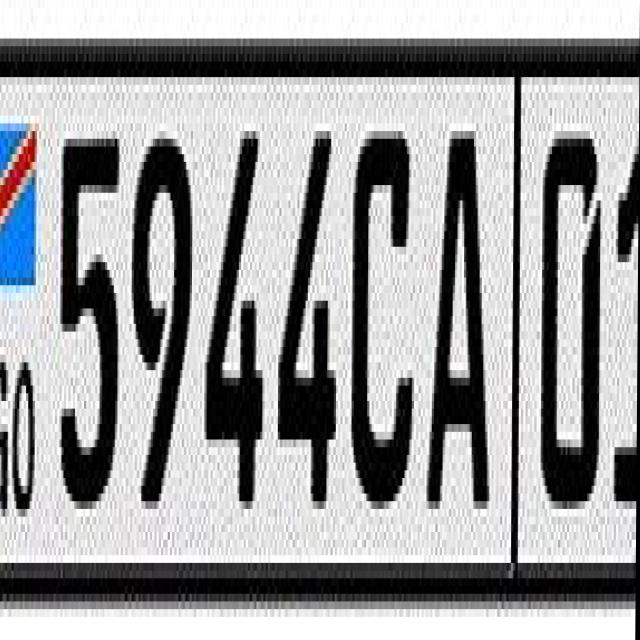Plaque: (0, 49, 639, 604)
